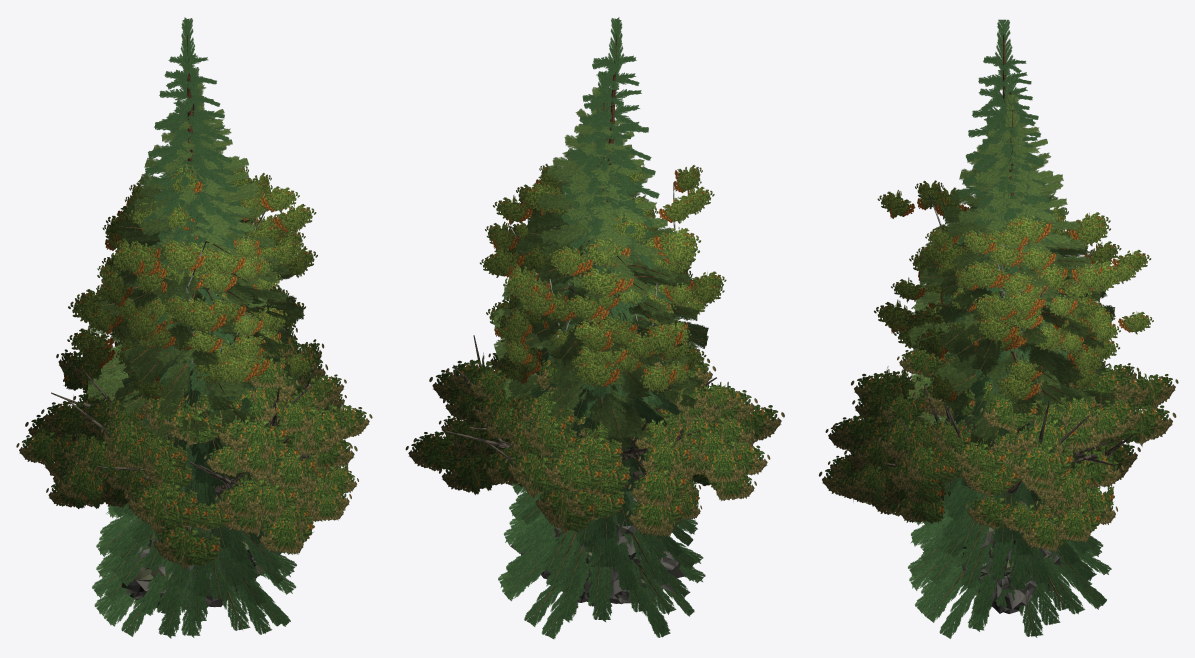
The model's file is nature.glb.
3 views of the same model, side by side, from view 1: azimuth 30°, elevation 25°; view 2: azimuth 150°, elevation 25°; view 3: azimuth 270°, elevation 25° (orthographic). The views are drawn at different scales.
Parts seen in each view (by area): view 1: oak0_lod0, oak1_lod0, spruce1_lod0, birch1_lod0, pine1_lod0, birch0_lod0, spruce0_lod0, pine0_lod0, oak0_dry_lod0, spruce2_lod0, oak1_dry_lod0, pine2_lod0 (+7 smaller); view 2: spruce1_lod0, oak1_lod0, oak0_lod0, birch1_lod0, pine1_lod0, birch0_lod0, spruce0_lod0, pine0_lod0, spruce2_lod0, oak0_dry_lod0, oak1_dry_lod0, pine2_lod0 (+7 smaller); view 3: oak0_lod0, pine1_lod0, birch1_lod0, oak1_lod0, birch0_lod0, spruce1_lod0, spruce0_lod0, pine0_lod0, oak0_dry_lod0, spruce2_lod0, oak1_dry_lod0, pine2_lod0 (+7 smaller).
Part boxes in pixels (left/top/right/bottom): oak0_lod0: left=31, top=327, right=366, bottom=531; oak1_lod0: left=22, top=342, right=354, bottom=565; spruce1_lod0: left=92, top=17, right=295, bottom=637; birch1_lod0: left=68, top=163, right=317, bottom=372; pine1_lod0: left=90, top=82, right=304, bottom=431; birch0_lod0: left=67, top=199, right=314, bottom=399; spruce0_lod0: left=96, top=67, right=293, bottom=636; pine0_lod0: left=89, top=102, right=303, bottom=440; oak0_dry_lod0: left=25, top=328, right=372, bottom=532; spruce2_lod0: left=94, top=116, right=296, bottom=638; oak1_dry_lod0: left=16, top=344, right=358, bottom=569; pine2_lod0: left=86, top=252, right=305, bottom=483; spruce1_lod0: left=502, top=17, right=697, bottom=622; oak1_lod0: left=411, top=353, right=764, bottom=530; oak0_lod0: left=435, top=321, right=778, bottom=532; birch1_lod0: left=484, top=163, right=726, bottom=360; pine1_lod0: left=493, top=87, right=708, bottom=418; birch0_lod0: left=479, top=197, right=707, bottom=393; spruce0_lod0: left=498, top=70, right=697, bottom=639; pine0_lod0: left=493, top=109, right=708, bottom=443; spruce2_lod0: left=503, top=119, right=705, bottom=634; oak0_dry_lod0: left=429, top=356, right=784, bottom=537; oak1_dry_lod0: left=405, top=353, right=770, bottom=533; pine2_lod0: left=502, top=253, right=698, bottom=475; oak0_lod0: left=832, top=342, right=1169, bottom=527; pine1_lod0: left=907, top=94, right=1115, bottom=441; birch1_lod0: left=877, top=166, right=1151, bottom=350; oak1_lod0: left=825, top=363, right=1172, bottom=547; birch0_lod0: left=874, top=201, right=1153, bottom=402; spruce1_lod0: left=909, top=19, right=1111, bottom=631; spruce0_lod0: left=911, top=76, right=1103, bottom=625; pine0_lod0: left=908, top=111, right=1107, bottom=443; oak0_dry_lod0: left=828, top=346, right=1176, bottom=530; spruce2_lod0: left=908, top=164, right=1106, bottom=638; oak1_dry_lod0: left=819, top=365, right=1178, bottom=552; pine2_lod0: left=912, top=261, right=1115, bottom=480.
Size of what is drawn, in the model's own units: 11.11 by 19.47 by 10.87.
13 materials, 13 textured.
